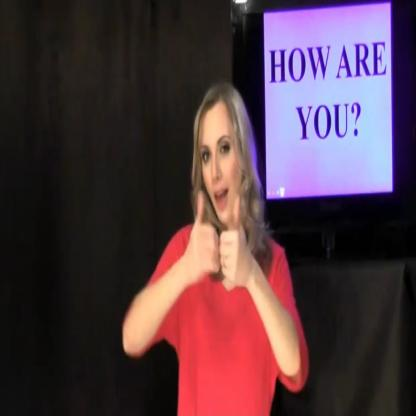HowAreYou: (184, 189, 253, 293)
